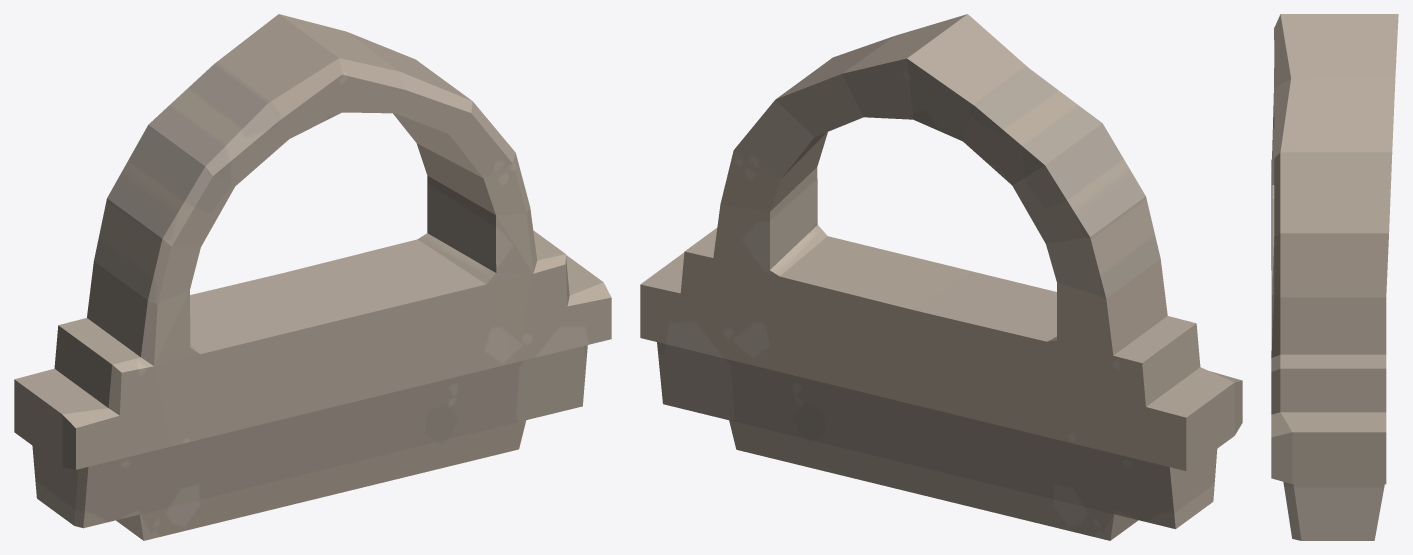
Rendered from SM_Bld_Village_Edge_02.fbx.
The picture shows the model from 3 angles, left to right: view 1: azimuth 30°, elevation 25°; view 2: azimuth 150°, elevation 25°; view 3: azimuth 270°, elevation 25°; orthographic projection. The views are drawn at different scales.
Parts seen in each view (by area): view 1: SM_Bld_Village_Edge_02; view 2: SM_Bld_Village_Edge_02; view 3: SM_Bld_Village_Edge_02.
Part boxes in pixels (bbox=[...]): SM_Bld_Village_Edge_02: bbox=[14, 14, 611, 540]; SM_Bld_Village_Edge_02: bbox=[640, 14, 1242, 540]; SM_Bld_Village_Edge_02: bbox=[1271, 14, 1398, 540].
Size of the model in its own units: 257 by 200 by 53.29.
